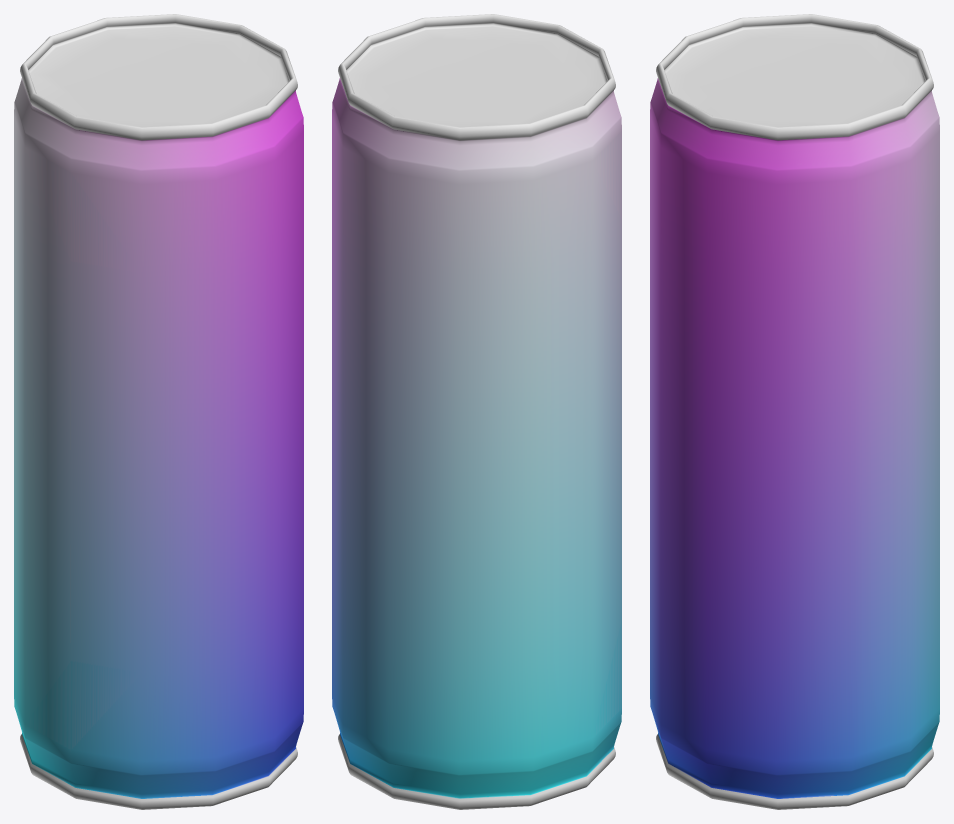
File: EnergyDrink3.fbx
3 views of the same model, side by side, from view 1: azimuth 30°, elevation 25°; view 2: azimuth 150°, elevation 25°; view 3: azimuth 270°, elevation 25° (orthographic).
Parts seen in each view (by area): view 1: Can backup; view 2: Can backup; view 3: Can backup.
Part boxes in pixels (x1,y1,x2,y2): Can backup: (14, 14, 303, 809); Can backup: (332, 14, 621, 809); Can backup: (650, 14, 939, 809).
Bounding box in the file's own units: 7.07 × 18.46 × 7.1.
